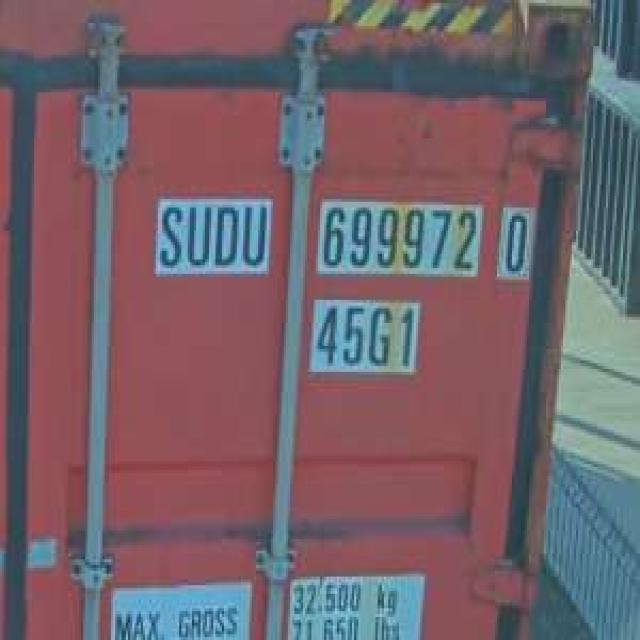dv: (494, 203, 534, 279)
owner: (157, 196, 269, 275)
serial: (313, 198, 482, 276)
size: (313, 298, 417, 376)
